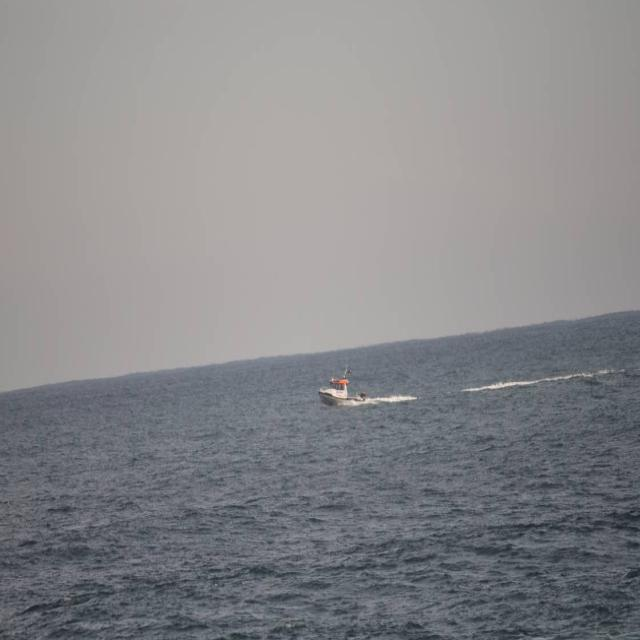houseboat: (317, 357, 366, 412)
